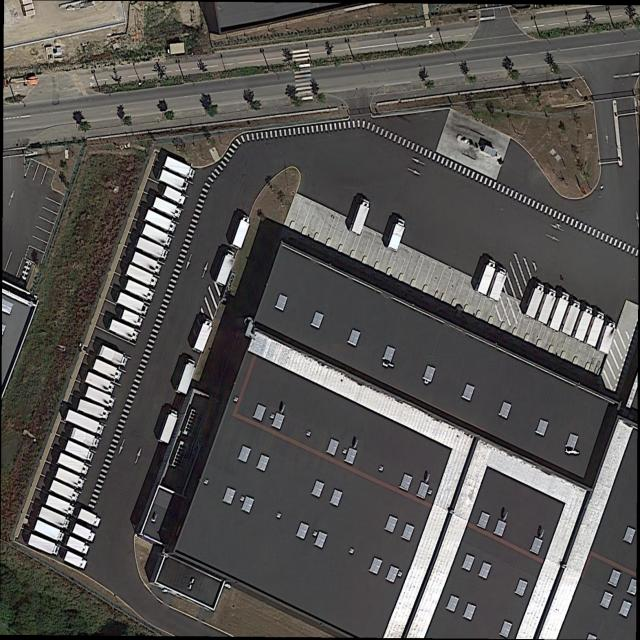large-vehicle: (64, 410, 105, 437), (547, 290, 571, 333), (559, 298, 583, 338), (474, 257, 498, 297), (348, 197, 372, 237), (535, 286, 558, 327), (523, 281, 547, 320), (584, 309, 607, 349), (143, 209, 178, 235), (114, 291, 150, 316), (571, 304, 594, 343), (175, 357, 198, 396), (139, 223, 174, 248), (486, 265, 509, 303), (157, 407, 180, 445), (214, 249, 237, 287), (191, 317, 214, 354), (163, 156, 197, 181), (134, 237, 169, 261), (596, 318, 618, 356), (385, 217, 408, 253), (130, 251, 163, 276), (125, 264, 158, 289), (37, 506, 70, 531), (33, 519, 66, 544), (56, 452, 90, 476), (156, 169, 190, 193), (230, 213, 252, 250), (123, 278, 155, 303), (83, 371, 116, 395), (83, 386, 117, 409), (26, 533, 60, 556), (107, 319, 139, 343), (97, 345, 129, 369), (91, 358, 123, 382), (64, 440, 95, 464), (152, 197, 183, 221), (44, 494, 76, 517), (77, 399, 110, 421), (69, 427, 100, 450), (55, 467, 86, 490), (49, 480, 80, 503), (70, 521, 97, 544), (161, 185, 187, 207), (76, 508, 102, 529), (119, 308, 144, 329), (62, 550, 88, 570), (64, 535, 90, 555)
